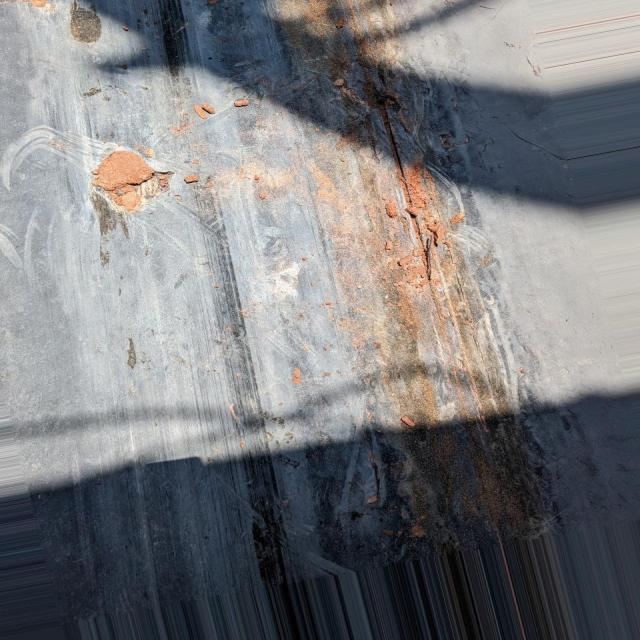impact damage: (335, 55, 544, 519)
